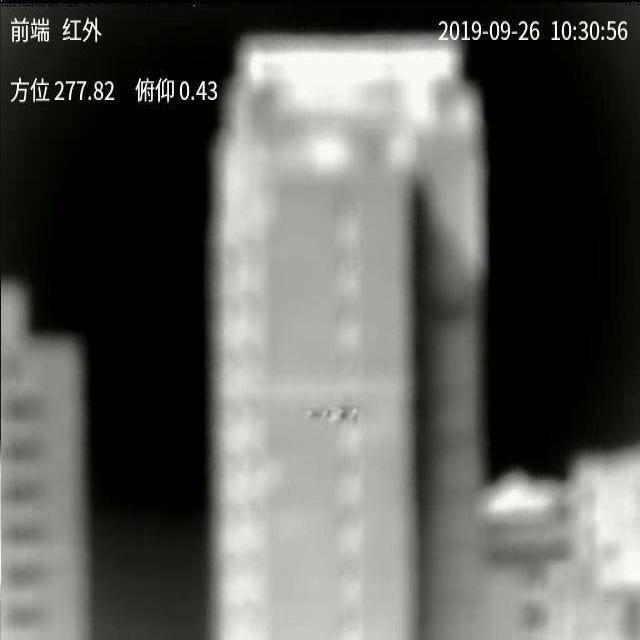drone: (306, 407, 359, 421)
